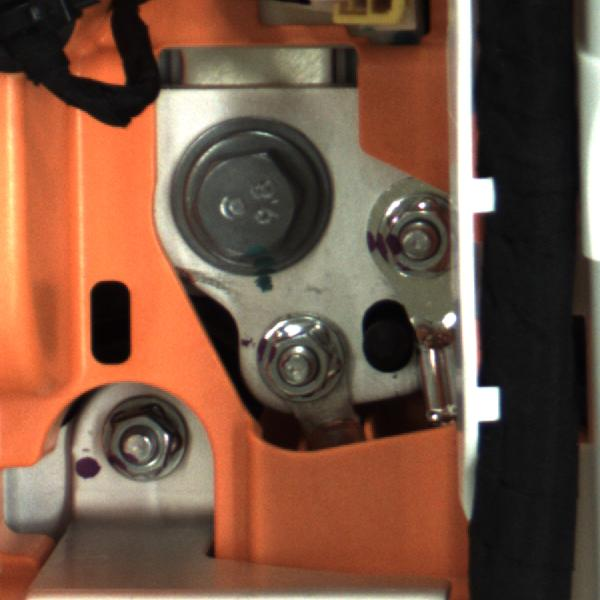nut_b: (175, 122, 327, 272)
screw_s: (257, 314, 348, 400), (99, 398, 183, 489), (376, 194, 453, 272)
